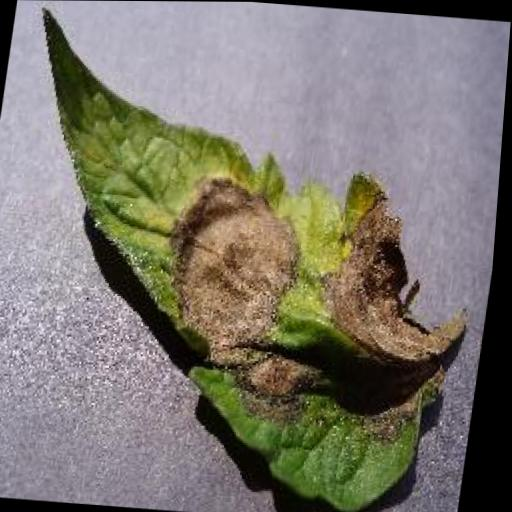Late Blight: (0, 2, 512, 512)
